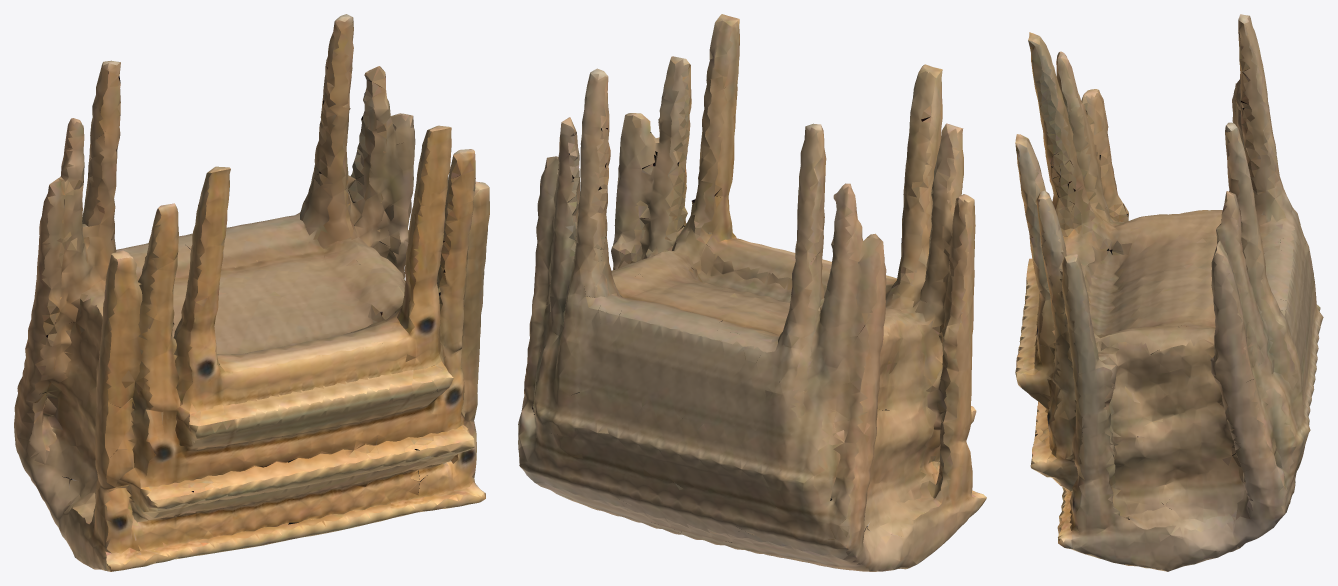
3 renders of one model, left to right at view 1: azimuth 30°, elevation 25°; view 2: azimuth 150°, elevation 25°; view 3: azimuth 270°, elevation 25°, orthographic. The views are drawn at different scales.
Visible parts, largest first — view 1: world; view 2: world; view 3: world.
Boxes of the visible parts, <box> form: world: <box>14,14,489,571</box>; world: <box>518,14,986,571</box>; world: <box>1015,14,1323,571</box>.
Size of the model in its own units: 0.8403 by 0.9919 by 0.6338.
1 material, 1 textured.
